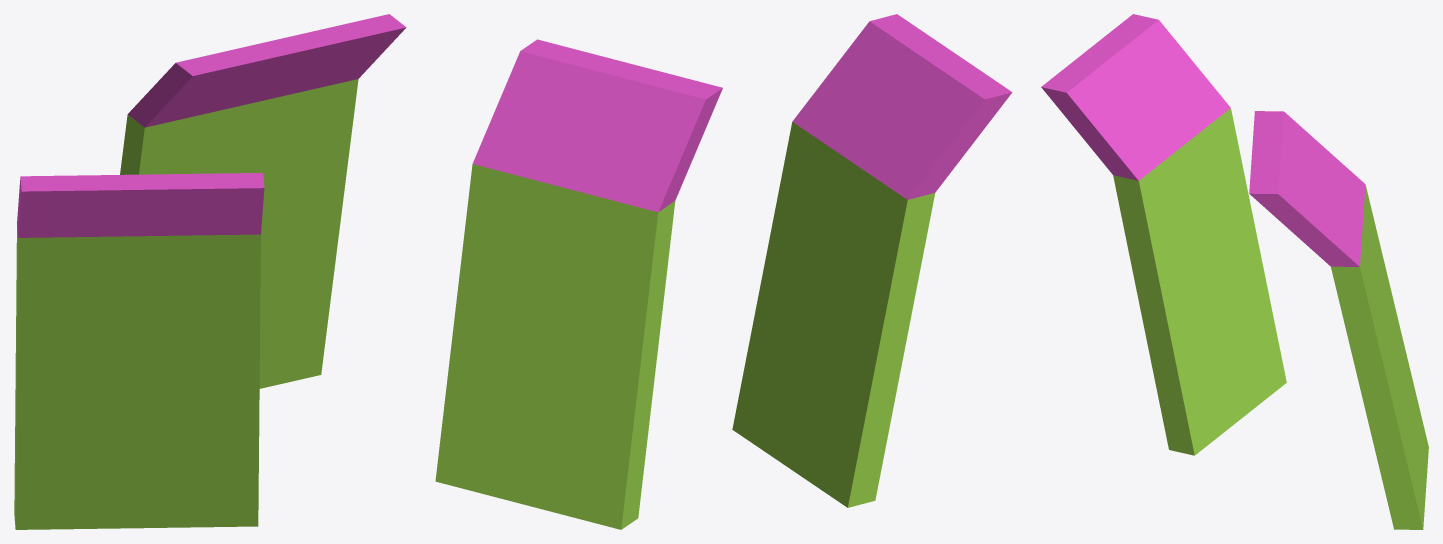
Rendered from flower2.fbx.
The picture shows the model from 3 angles, left to right: view 1: azimuth 30°, elevation 25°; view 2: azimuth 150°, elevation 25°; view 3: azimuth 270°, elevation 25°; orthographic projection. The views are drawn at different scales.
Visible parts, largest first — view 1: flower.001; view 2: flower.001; view 3: flower.001.
Boxes of the visible parts, <box> form: flower.001: <box>14,14,406,529</box>; flower.001: <box>435,14,1012,529</box>; flower.001: <box>1041,14,1428,529</box>.
Bounding box in the file's own units: 0.3811 × 0.3264 × 0.3435.
